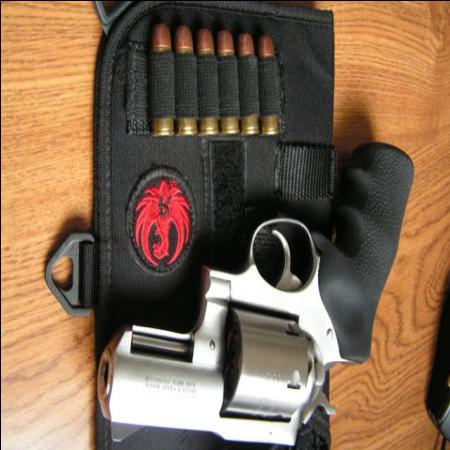Pistol: (91, 140, 415, 445)
